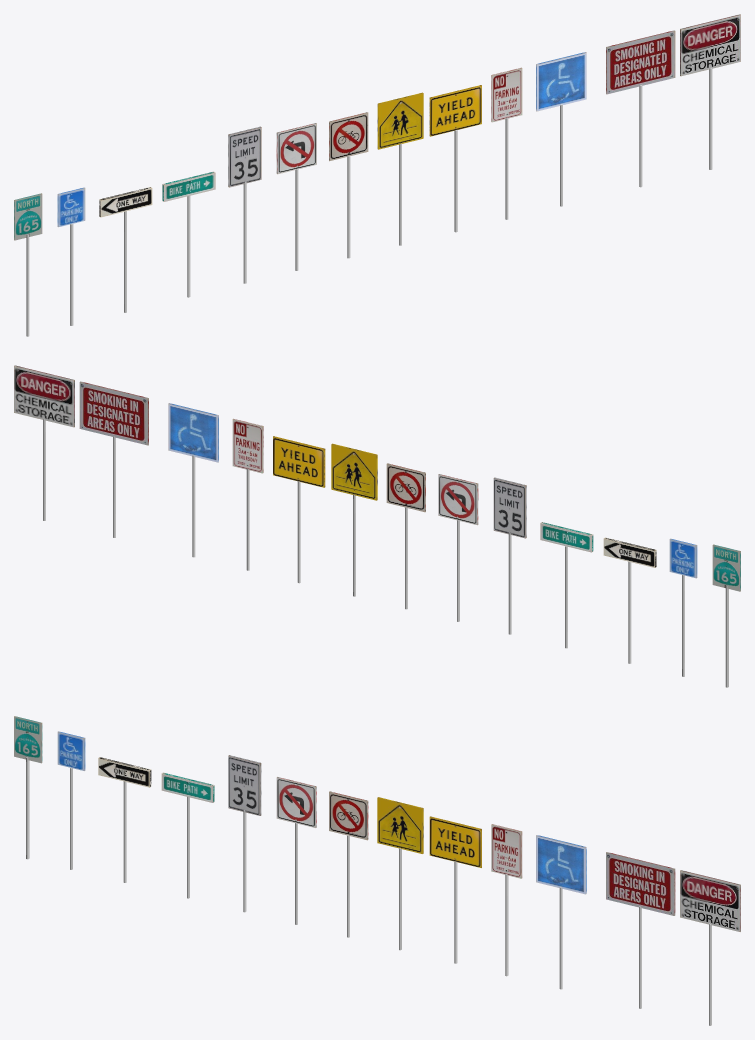
The model's file is signs.glb.
3 views of the same model, one above another, from view 1: azimuth 30°, elevation 25°; view 2: azimuth 150°, elevation 25°; view 3: azimuth 330°, elevation 25° (orthographic).
Visible parts, largest first — view 1: Box008, Box009, Box007, Box004, Box005, Box001, Box002, Box003, Box006, Box013, Box010, Box011 (+1 smaller); view 2: Box008, Box009, Box007, Box004, Box005, Box001, Box002, Box003, Box006, Box013, Box010, Box011 (+1 smaller); view 3: Box008, Box009, Box007, Box004, Box005, Box001, Box002, Box003, Box006, Box013, Box010, Box011 (+1 smaller).
Part boxes in pixels (bbox=[...]): Box008: bbox=[606, 30, 675, 94]; Box009: bbox=[680, 14, 740, 76]; Box007: bbox=[536, 52, 586, 111]; Box004: bbox=[377, 92, 423, 149]; Box005: bbox=[429, 85, 481, 136]; Box001: bbox=[228, 126, 261, 187]; Box002: bbox=[276, 123, 316, 174]; Box003: bbox=[329, 112, 368, 161]; Box006: bbox=[491, 67, 522, 122]; Box013: bbox=[14, 193, 42, 240]; Box010: bbox=[162, 171, 215, 201]; Box011: bbox=[99, 187, 152, 217]; Box008: bbox=[79, 381, 148, 445]; Box009: bbox=[14, 365, 74, 427]; Box007: bbox=[168, 403, 218, 462]; Box004: bbox=[331, 443, 377, 500]; Box005: bbox=[273, 436, 325, 487]; Box001: bbox=[493, 477, 526, 538]; Box002: bbox=[438, 474, 478, 525]; Box003: bbox=[386, 463, 425, 512]; Box006: bbox=[232, 418, 263, 473]; Box013: bbox=[712, 544, 740, 591]; Box010: bbox=[540, 522, 593, 552]; Box011: bbox=[603, 537, 656, 567]; Box008: bbox=[606, 852, 675, 915]; Box009: bbox=[680, 870, 740, 931]; Box007: bbox=[536, 835, 586, 894]; Box004: bbox=[377, 797, 423, 853]; Box005: bbox=[429, 816, 481, 867]; Box001: bbox=[228, 755, 261, 815]; Box002: bbox=[276, 777, 316, 827]; Box003: bbox=[329, 791, 368, 840]; Box006: bbox=[491, 824, 522, 878]; Box013: bbox=[14, 716, 42, 763]; Box010: bbox=[161, 772, 214, 802]; Box011: bbox=[98, 757, 151, 787].
Bounding box in the file's own units: 596 × 119 × 2.64.
2 materials, 1 textured.
